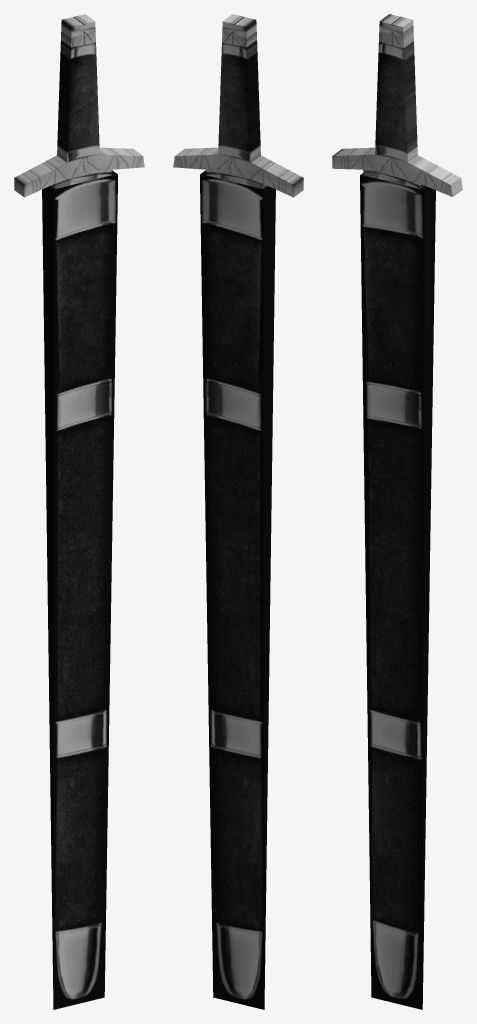
The model's file is Sword and Scabbard_LOD03.fbx.
3 views of the same model, side by side, from view 1: azimuth 30°, elevation 25°; view 2: azimuth 150°, elevation 25°; view 3: azimuth 330°, elevation 25° (orthographic).
Visible parts, largest first — view 1: Mesh Object; view 2: Mesh Object; view 3: Mesh Object.
Boxes of the visible parts, <box> form: Mesh Object: <box>14,14,144,1009</box>; Mesh Object: <box>173,14,303,1009</box>; Mesh Object: <box>332,14,462,1009</box>.
Size of the model in its own units: 0.1345 by 1.05 by 0.0226.
